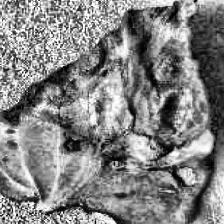disease: (0, 1, 213, 224)
